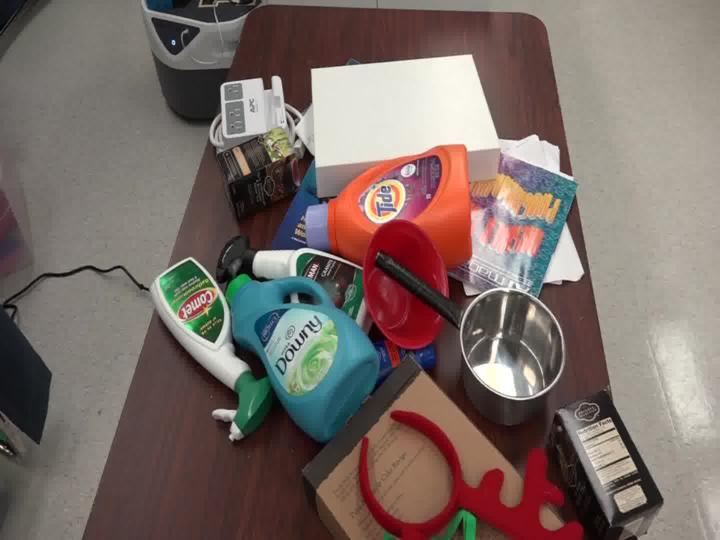downy: (199, 248, 402, 458)
